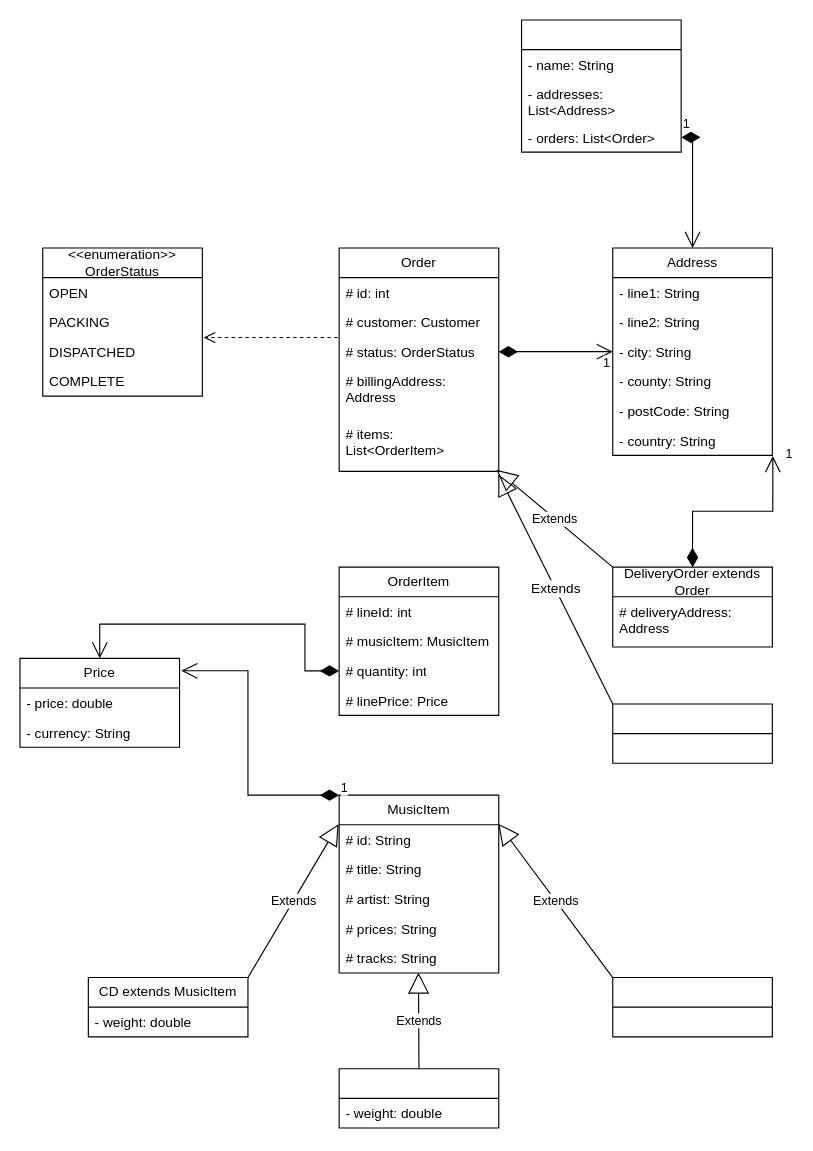
This 813x1151 diagram has some shape labels left out. The box of each missing label's shape, as (x1, y1, x2, y2) in pixels:
Customer: (520, 19, 681, 152)
Download extends MusicItem: (612, 976, 772, 1037)
DownloadOrder extends Order: (612, 703, 772, 763)
Vinyl: (338, 1068, 499, 1128)
